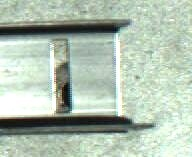40ngpress: (13, 20, 141, 129)
